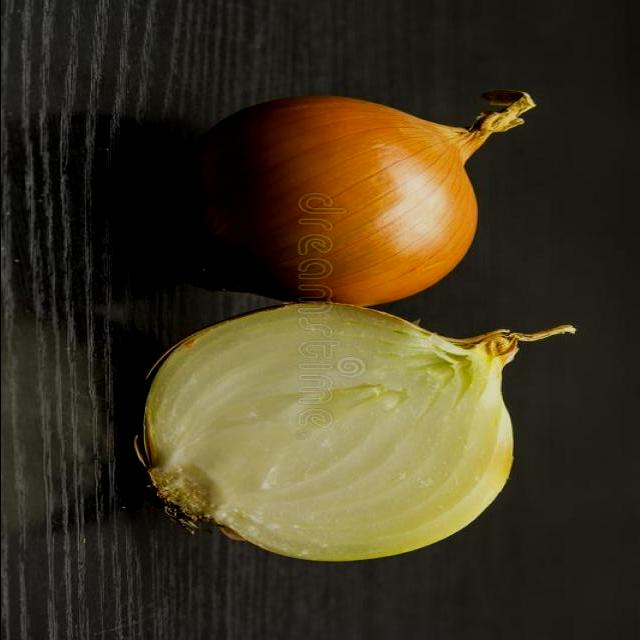onion: (137, 304, 567, 563), (165, 89, 544, 307)
